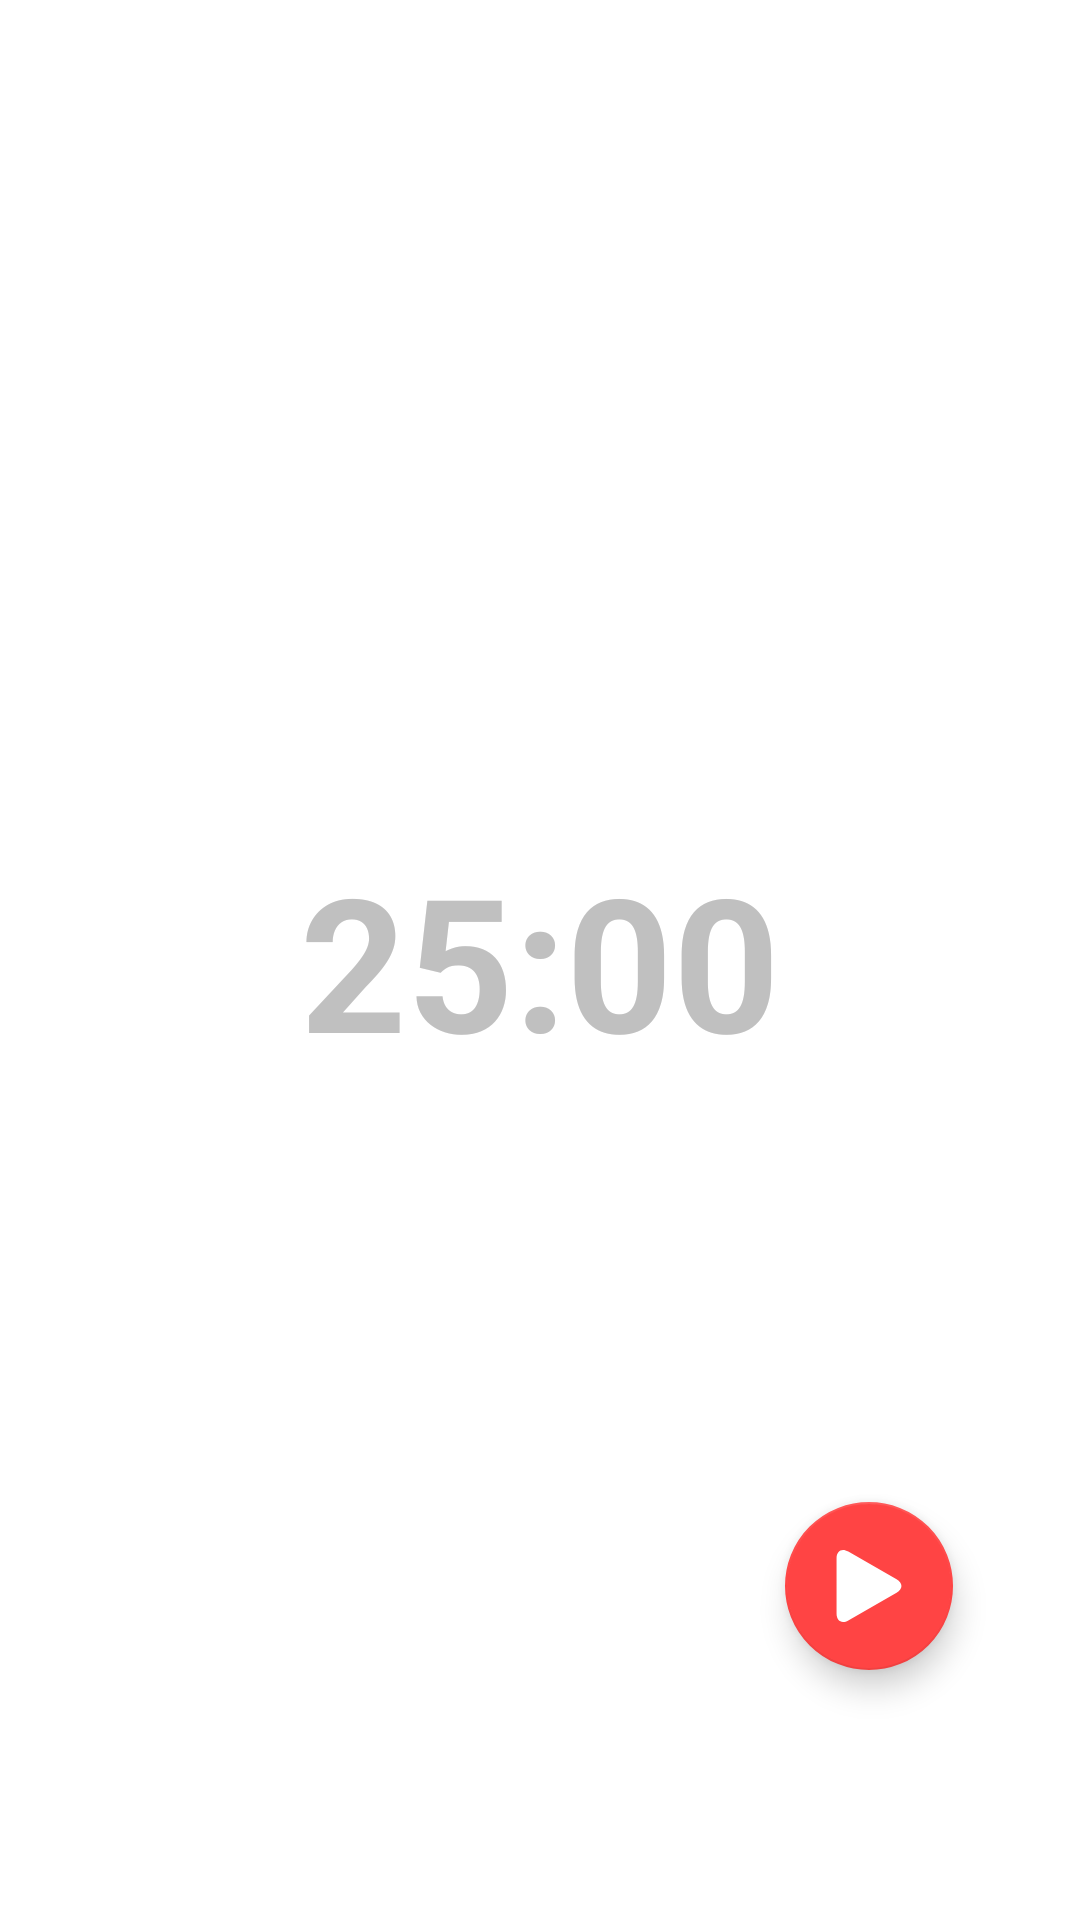

Named icons in this screenshot (1080 x 1920) and their bounding boxes, (x1, y1, x2, y2):
play: (785, 1502, 953, 1670)
